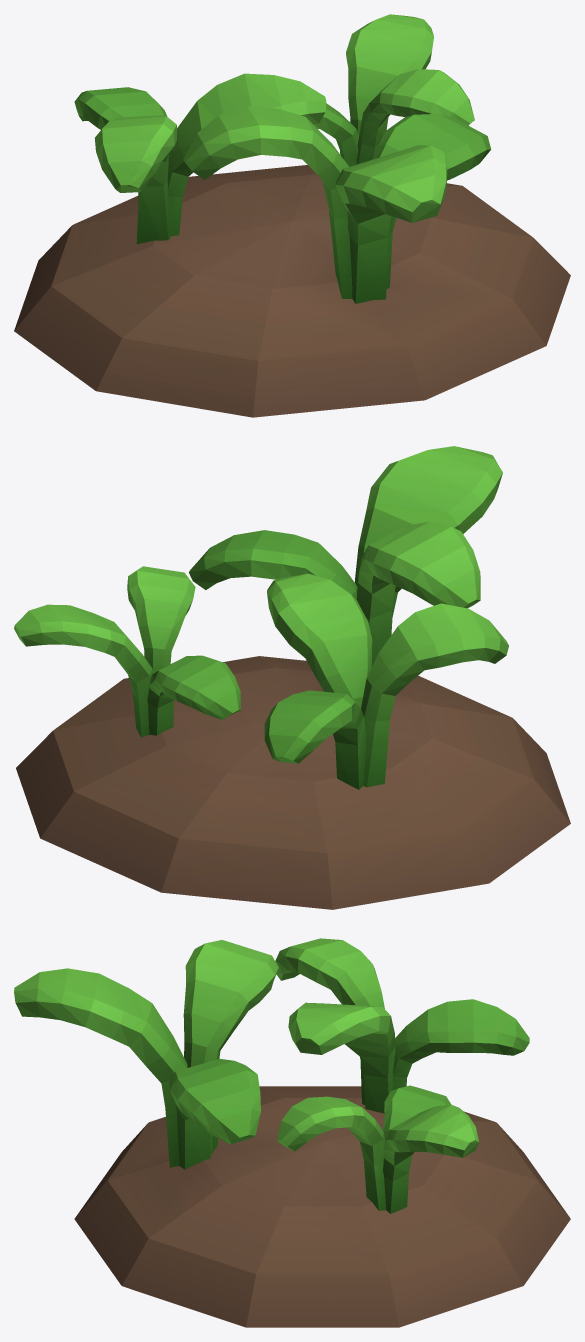
Rendered from crop_stage1.glb.
The picture shows the model from 3 angles, top to bottom: view 1: azimuth 30°, elevation 25°; view 2: azimuth 150°, elevation 25°; view 3: azimuth 270°, elevation 25°; orthographic projection. The views are drawn at different scales.
Visible parts, largest first — view 1: crop_stage1; view 2: crop_stage1; view 3: crop_stage1.
Part boxes in pixels (<box>): crop_stage1: <box>14,14,570,417</box>; crop_stage1: <box>14,446,570,909</box>; crop_stage1: <box>14,938,570,1327</box>.
Bounding box in the file's own units: 0.3614 × 0.18 × 0.3921.
Materials: 1 (1 with a texture image).
